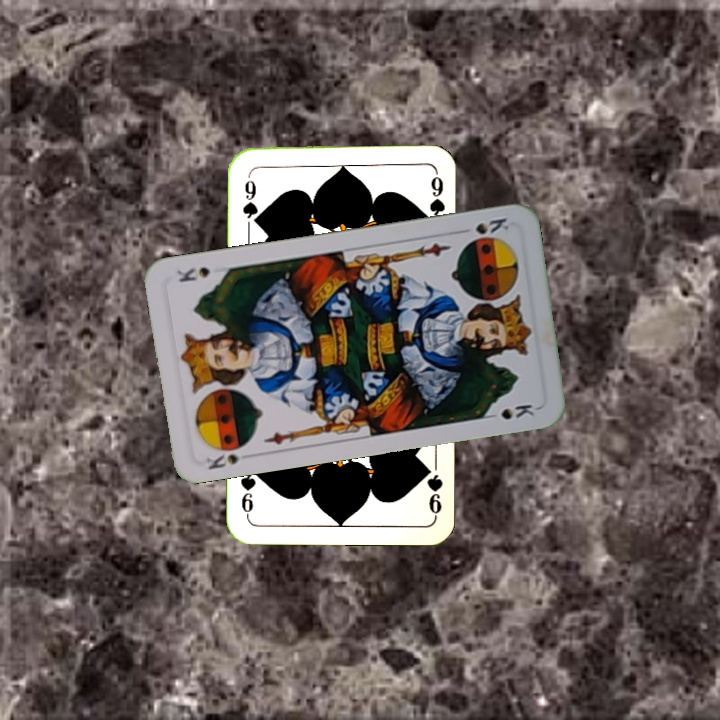G9: (419, 460, 445, 519), (238, 169, 261, 228)
SK: (461, 214, 512, 244), (197, 449, 242, 473)
